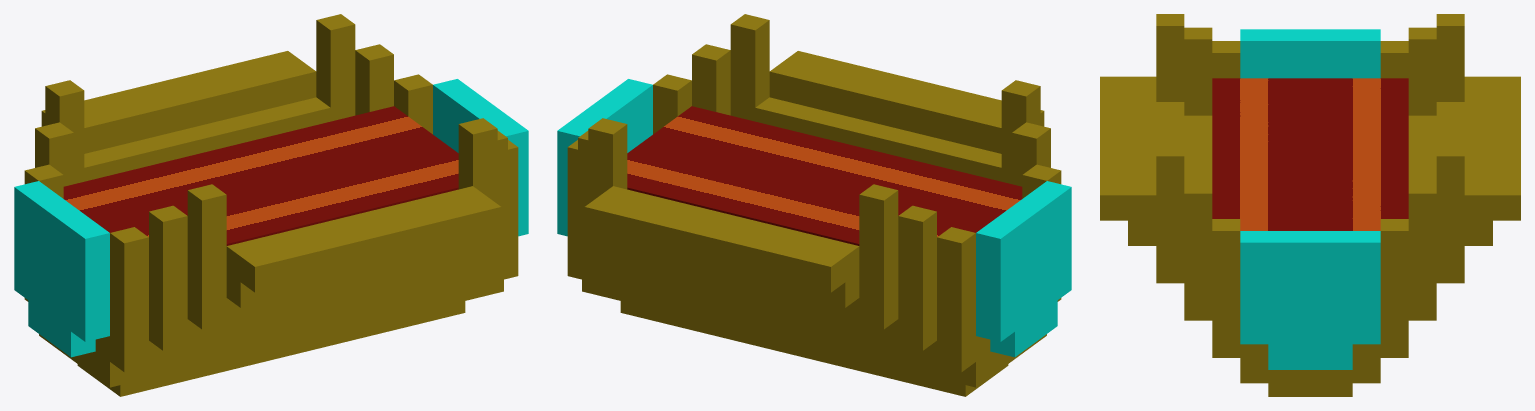
File: Vehicle_23.fbx
3 views of the same model, side by side, from view 1: azimuth 30°, elevation 25°; view 2: azimuth 150°, elevation 25°; view 3: azimuth 270°, elevation 25° (orthographic).
Visible parts, largest first — view 1: Vehicle_23; view 2: Vehicle_23; view 3: Vehicle_23.
Part boxes in pixels (left/top/right/bottom): Vehicle_23: left=14, top=14, right=528, bottom=396; Vehicle_23: left=557, top=14, right=1071, bottom=396; Vehicle_23: left=1100, top=14, right=1520, bottom=396.
Size of the model in its own units: 18 by 9 by 15.
1 material, 1 textured.
